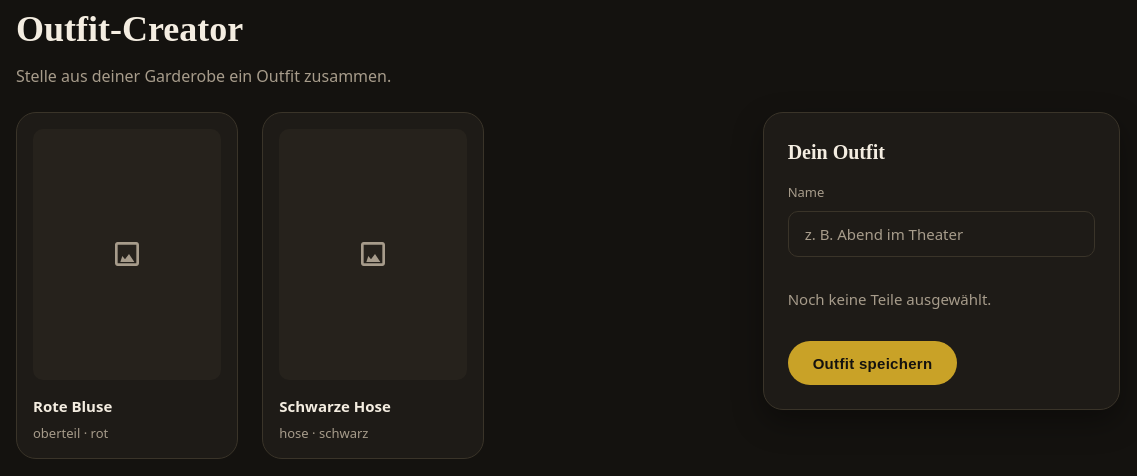
Test case: Outfit erstellen › refuses to save without a name or items
Expected: the text "Rote Bluse" is shown, [33, 396, 112, 416]
Click the button "Outfit speichern" at [873, 363], box [788, 341, 958, 385]
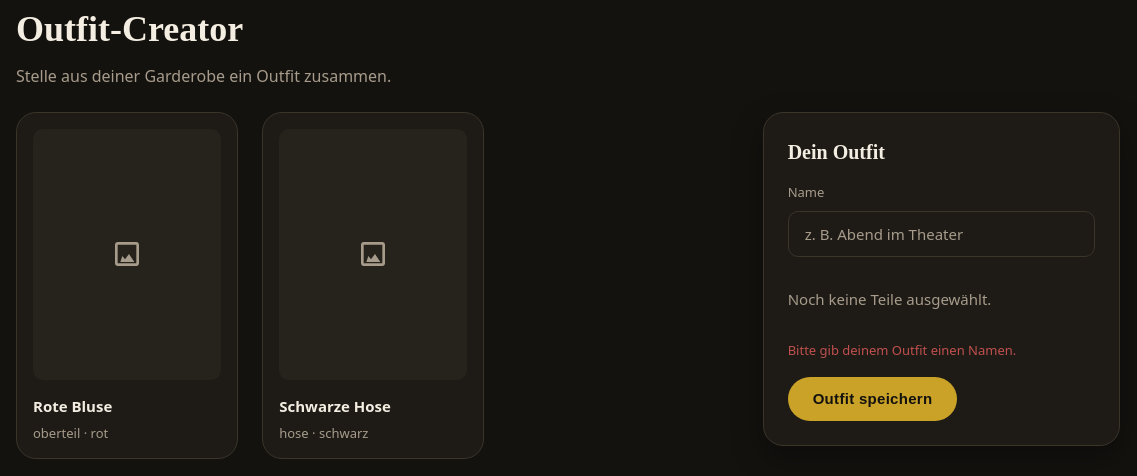
Expected: the message reads "Bitte gib deinem Outfit einen Namen.", [788, 341, 1016, 359]
Type "Abend" into the field labelled "Name" at [941, 234], box [788, 210, 1095, 256]
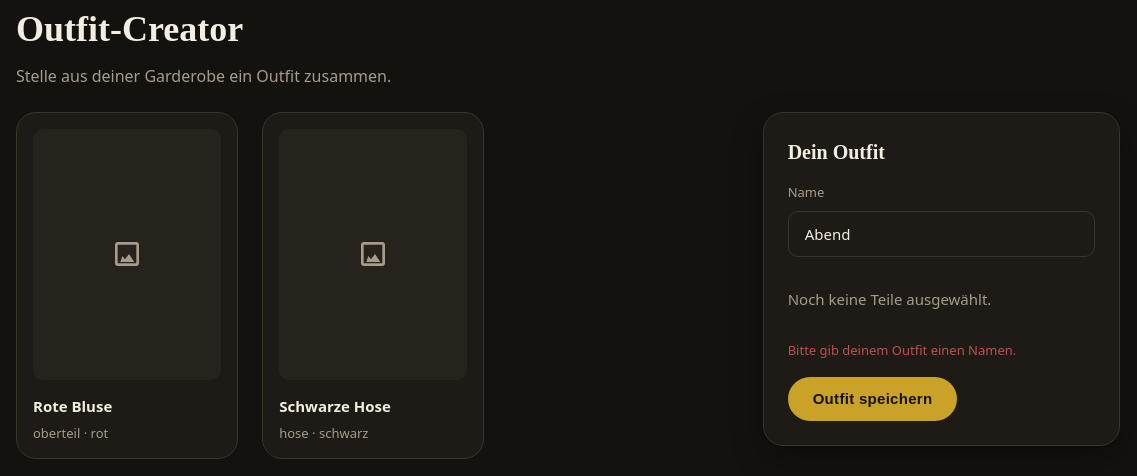
Click the button "Outfit speichern" at [873, 398], box [788, 376, 958, 420]
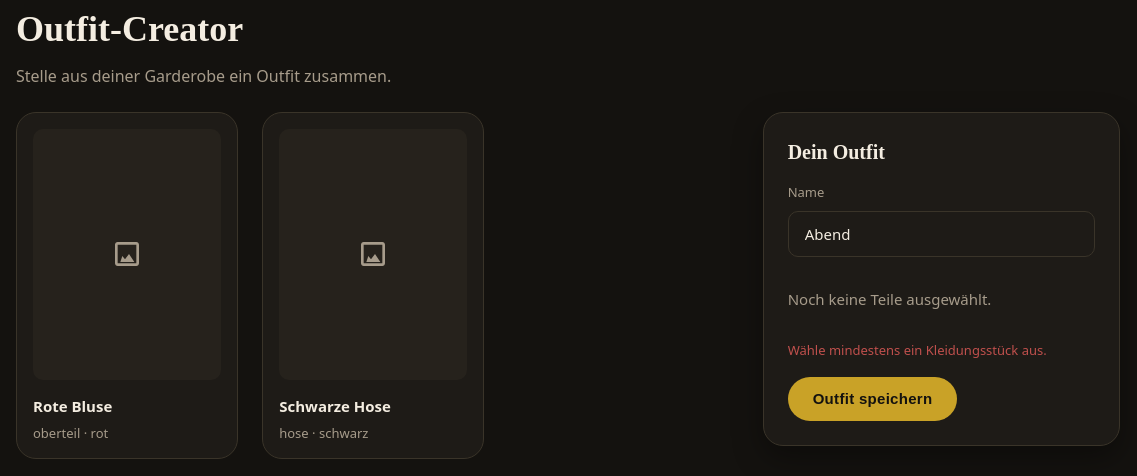
Expected: the message reads "Wähle mindestens ein Kleidungsstück aus.", [788, 341, 1047, 359]
